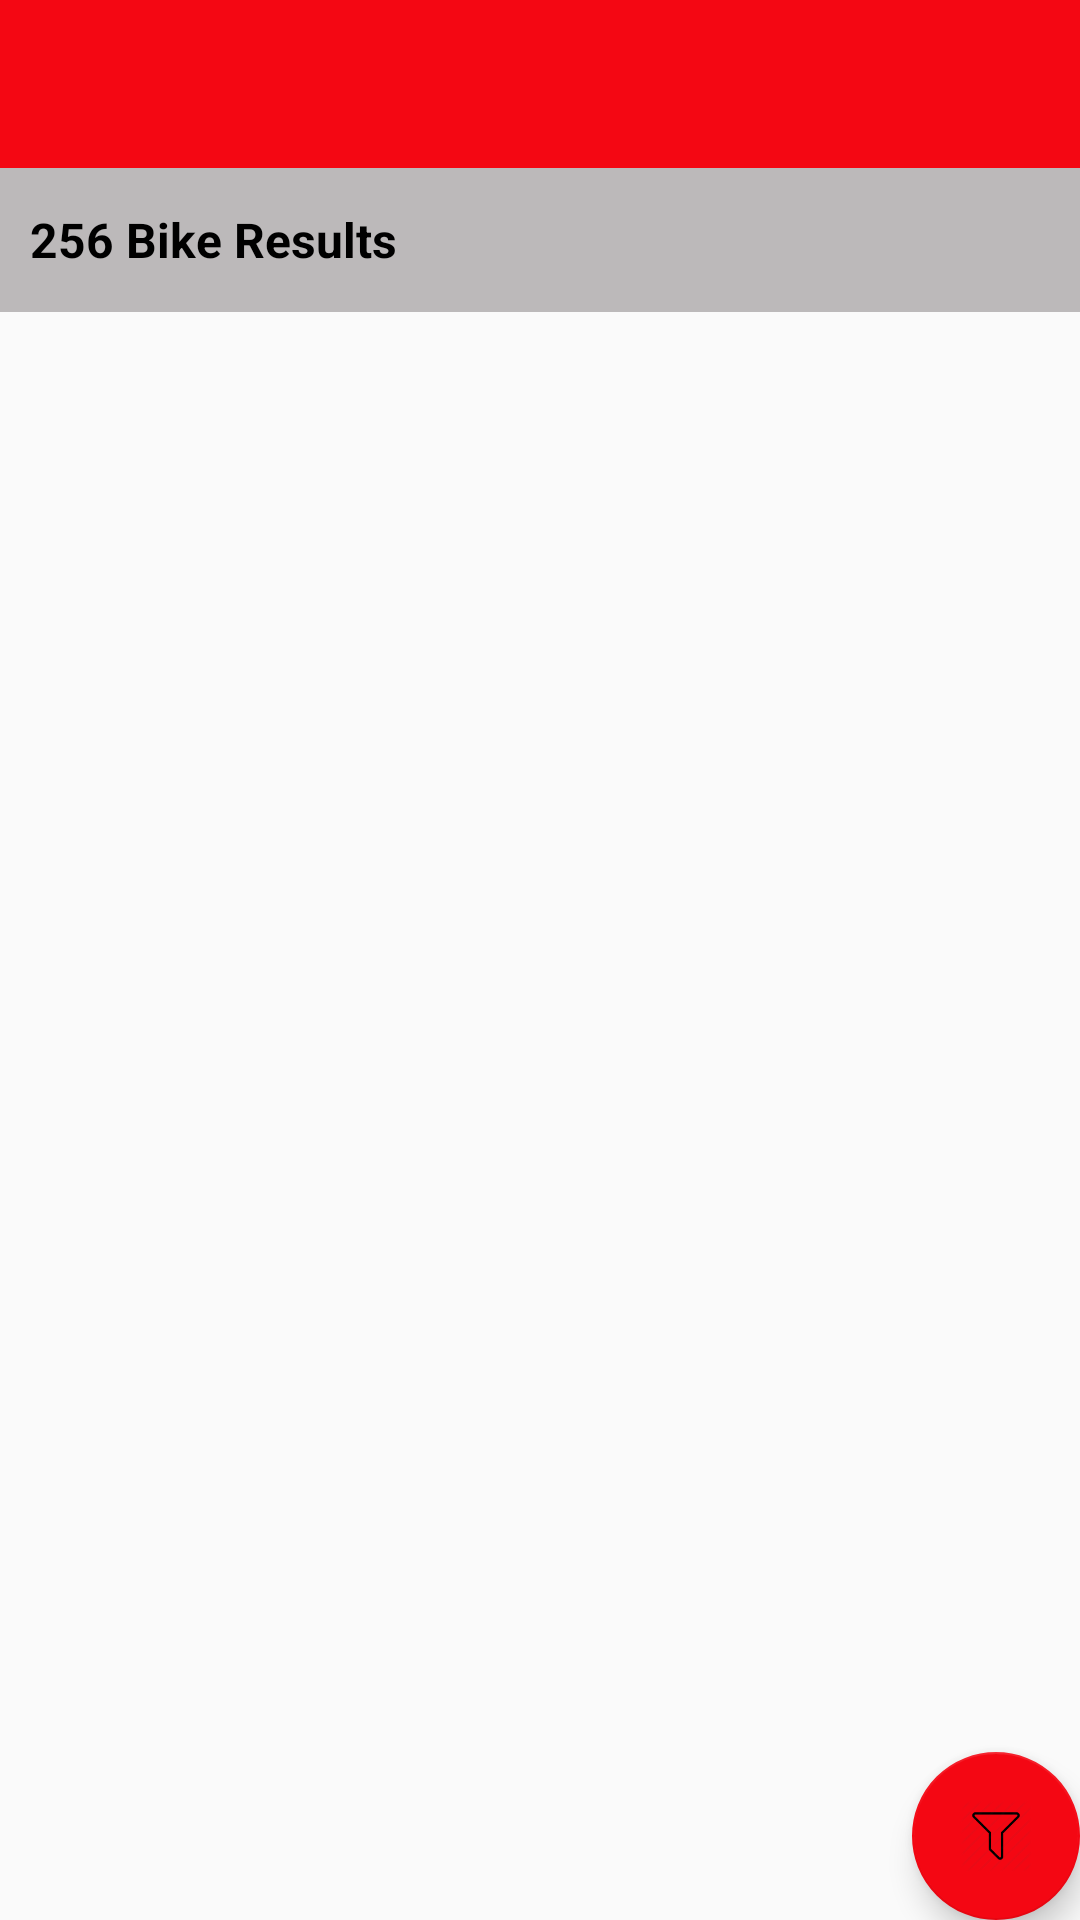

Where to tap for icons on this 1080 × 1920 app screen, as (x,y):
filter: (996,1836)
